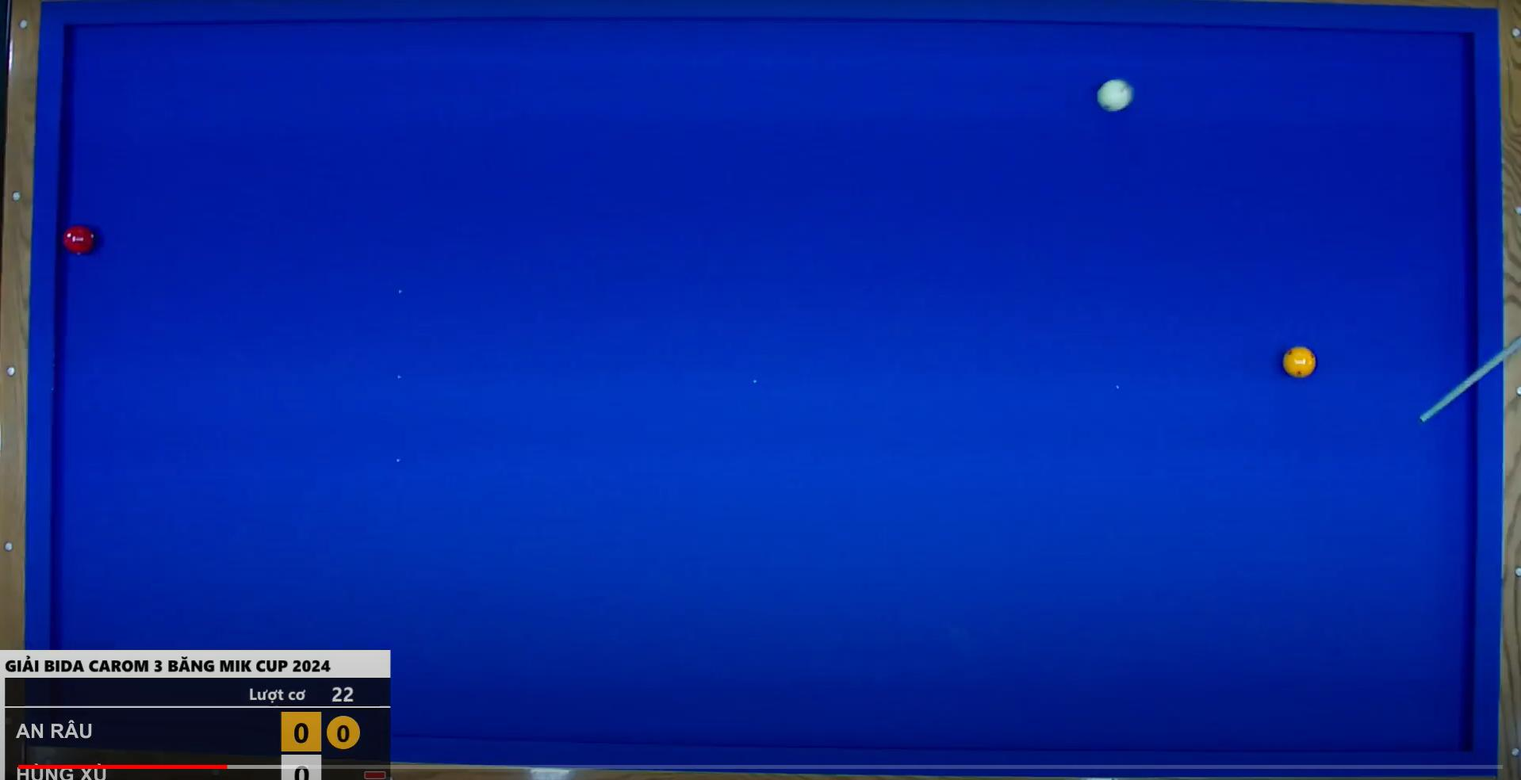red ball: (59, 216, 105, 267)
white ball: (1093, 73, 1139, 121)
yellow ball: (1275, 338, 1320, 381)
